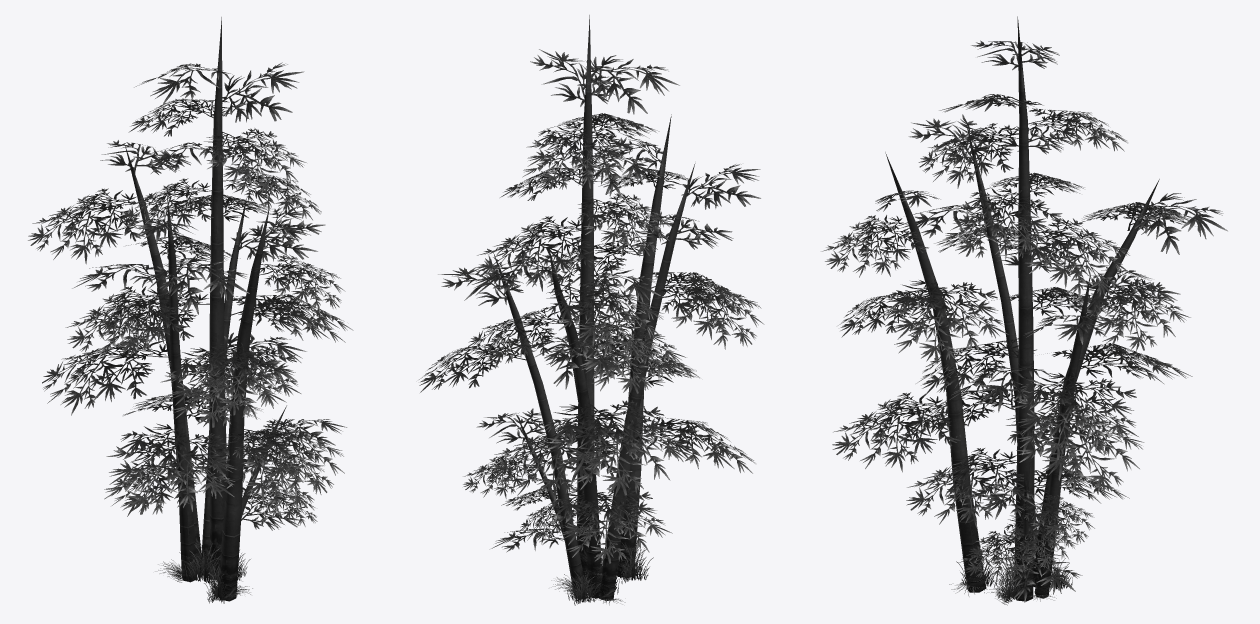
File: shu1.FBX
3 renders of one model, left to right at view 1: azimuth 30°, elevation 25°; view 2: azimuth 150°, elevation 25°; view 3: azimuth 270°, elevation 25°, orthographic. The views are drawn at different scales.
Parts seen in each view (by area): view 1: S1_shu002c_tf, S1_shu002b_tf, 34710423; view 2: S1_shu002c_tf, S1_shu002b_tf, 34710423; view 3: S1_shu002c_tf, S1_shu002b_tf, 34710423.
Part boxes in pixels (<box>): S1_shu002c_tf: <box>28,62,353,526</box>; S1_shu002b_tf: <box>42,142,344,530</box>; 34710423: <box>124,17,286,603</box>; S1_shu002c_tf: <box>419,49,764,510</box>; S1_shu002b_tf: <box>488,146,752,563</box>; 34710423: <box>493,15,695,605</box>; S1_shu002c_tf: <box>821,40,1227,580</box>; S1_shu002b_tf: <box>832,125,1192,602</box>; 34710423: <box>885,16,1159,605</box>.
Size of the model in its own units: 1028 by 1849 by 1249.
